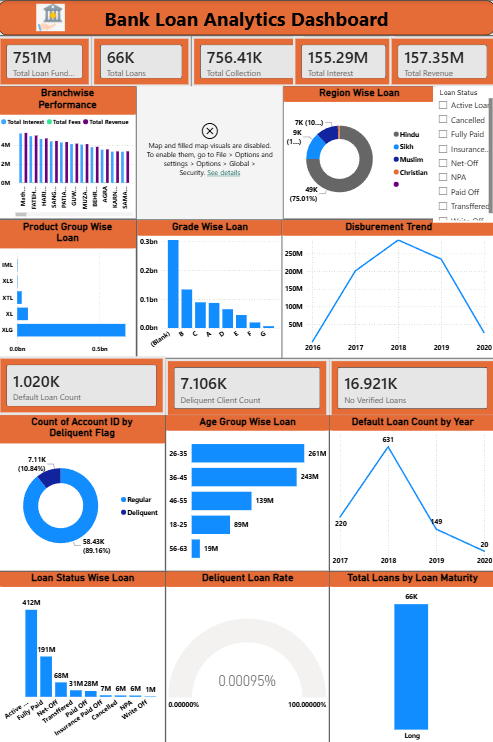

The page's visual inventory and layout, read from the dashboard file:
{"tool":"powerbi","page":{"name":"Bank Loan Dashboard","canvas":[1000,1500],"ordinal":0},"visuals":[{"type":"shape","box":[0,0,1000.3,72.1],"z":0},{"type":"cardVisual","title":"Total Loans Amt ","fields":{"Data":["Loan_Data_Clean.Total Loan Funded"]},"box":[0,72.1,187.7,102.2],"z":1000},{"type":"cardVisual","fields":{"Data":["Loan_Data_Clean.Total Loans"]},"box":[187.7,72.1,199.4,102.2],"z":2000},{"type":"cardVisual","fields":{"Data":["Loan_Data_Clean.Total Collection"]},"box":[388.7,72.1,224.5,102.2],"z":3000},{"type":"cardVisual","fields":{"Data":["Loan_Data_Clean.Total Interest"]},"box":[593.2,72.1,204.4,102.2],"z":4000},{"type":"cardVisual","fields":{"Data":["Loan_Data_Clean.Total Revenue"]},"box":[785.9,72.1,214.5,102.2],"z":5000},{"type":"clusteredColumnChart","title":"Branchwise Performance","fields":{"Category":["Loan_Data_Clean.Branch Name"],"Y":["Loan_Data_Clean.Total Interest","Loan_Data_Clean.Total Fees","Loan_Data_Clean.Total Revenue"]},"box":[0,174.3,278.6,267.6],"z":6000},{"type":"donutChart","title":"Region Wise Loan","fields":{"Category":["Loan_Data_Clean.Religion"],"Y":["Loan_Data_Clean.Total Loans"]},"box":[572.2,174.3,306,267.6],"z":7000},{"type":"map","fields":{"Category":["Loan_Data_Clean.State Name"],"Size":["Loan_Data_Clean.Total Loan Funded"]},"box":[278.6,174.3,293.7,267.6],"z":8000},{"type":"clusteredBarChart","title":"Product Group Wise Loan","fields":{"Y":["Loan_Data_Clean.Total Loan Funded"],"Category":["Loan_Data_Clean.Product Code"]},"box":[0,441.9,278.6,278.6],"z":9000},{"type":"columnChart","title":"Grade Wise Loan","fields":{"Category":["Loan_Data_Clean.Grade"],"Y":["Loan_Data_Clean.Total Loan Funded"]},"box":[278.6,441.9,293.7,278.6],"z":10000},{"type":"lineChart","title":"Disburement Trend","fields":{"Y":["Loan_Data_Clean.Total Loan Funded"],"Category":["Loan_Data_Clean.Disbursement Date.Variation.Date Hierarchy.Year"]},"box":[571.4,442.4,429,278.2],"z":11000},{"type":"cardVisual","fields":{"Data":["Loan_Data_Clean.Default Loan Count"]},"box":[0,717.2,336.8,119],"z":12000},{"type":"cardVisual","fields":{"Data":["Loan_Data_Clean.Deliquent Client Count"]},"box":[336.8,720.5,328.4,119],"z":13000},{"type":"cardVisual","fields":{"Data":["Loan_Data_Clean.No Verified Loans"]},"box":[665.2,720.5,335.1,119],"z":14000},{"type":"columnChart","title":"Loan Status Wise Loan","fields":{"Category":["Loan_Data_Clean.Loan Status"],"Y":["Loan_Data_Clean.Total Loan Funded"]},"box":[2.5,1148.6,334.3,351.9],"z":15000},{"type":"barChart","title":"Age Group Wise Loan","fields":{"Y":["Loan_Data_Clean.Total Loan Funded"],"Category":["Loan_Data_Clean.Age "]},"box":[336.8,834.5,329.3,314.2],"z":16000},{"type":"gauge","fields":{"Y":["Loan_Data_Clean.Deliquent Loan Rate"]},"box":[336.8,1148.6,329.3,351.9],"z":17000},{"type":"columnChart","fields":{"Category":["Loan_Data_Clean.Loan Maturity"],"Y":["Loan_Data_Clean.Total Loans"]},"box":[666.1,1148.6,334.3,351.9],"z":18000},{"type":"donutChart","fields":{"Category":["Loan_Data_Clean.Deliquent Flag"],"Y":["CountNonNull(Loan_Data_Clean.Account ID)"]},"box":[0,834.5,336.8,314.2],"z":19000},{"type":"lineChart","fields":{"Y":["Loan_Data_Clean.Default Loan Count"],"Category":["Loan_Data_Clean.Disbursement Date.Variation.Date Hierarchy.Year"]},"box":[666.1,834.5,334.3,314.2],"z":20000},{"type":"slicer","fields":{"Values":["Loan_Data_Clean.Loan Status"]},"box":[875.1,174.3,124.9,274.4],"z":21000},{"type":"image","box":[72.9,7.5,65.3,55.3],"z":22000}]}

Visuals, with their boxes in screenshot pixels (x1, y1, x2, y2), scaled from the page's 1000x1500 canvas onto the 493x742 screenshot:
shape: Rect(0, 0, 492, 36)
"Total Loans Amt " cardVisual: Rect(0, 36, 93, 86)
cardVisual - Loan_Data_Clean.Total Loans: Rect(93, 36, 191, 86)
cardVisual - Loan_Data_Clean.Total Collection: Rect(192, 36, 302, 86)
cardVisual - Loan_Data_Clean.Total Interest: Rect(292, 36, 393, 86)
cardVisual - Loan_Data_Clean.Total Revenue: Rect(387, 36, 492, 86)
"Branchwise Performance" clusteredColumnChart: Rect(0, 86, 137, 219)
"Region Wise Loan" donutChart: Rect(282, 86, 433, 219)
map - Loan_Data_Clean.State Name x Loan_Data_Clean.Total Loan Funded: Rect(137, 86, 282, 219)
"Product Group Wise Loan" clusteredBarChart: Rect(0, 219, 137, 356)
"Grade Wise Loan" columnChart: Rect(137, 219, 282, 356)
"Disburement Trend" lineChart: Rect(282, 219, 492, 356)
cardVisual - Loan_Data_Clean.Default Loan Count: Rect(0, 355, 166, 414)
cardVisual - Loan_Data_Clean.Deliquent Client Count: Rect(166, 356, 328, 415)
cardVisual - Loan_Data_Clean.No Verified Loans: Rect(328, 356, 492, 415)
"Loan Status Wise Loan" columnChart: Rect(1, 568, 166, 741)
"Age Group Wise Loan" barChart: Rect(166, 413, 328, 568)
gauge - Loan_Data_Clean.Deliquent Loan Rate: Rect(166, 568, 328, 741)
columnChart - Loan_Data_Clean.Loan Maturity x Loan_Data_Clean.Total Loans: Rect(328, 568, 492, 741)
donutChart - Loan_Data_Clean.Deliquent Flag x CountNonNull(Loan_Data_Clean.Account ID): Rect(0, 413, 166, 568)
lineChart - Loan_Data_Clean.Default Loan Count x Loan_Data_Clean.Disbursement Date.Variation.Date Hierarchy.Year: Rect(328, 413, 492, 568)
slicer - Loan_Data_Clean.Loan Status: Rect(431, 86, 492, 222)
image: Rect(36, 4, 68, 31)
